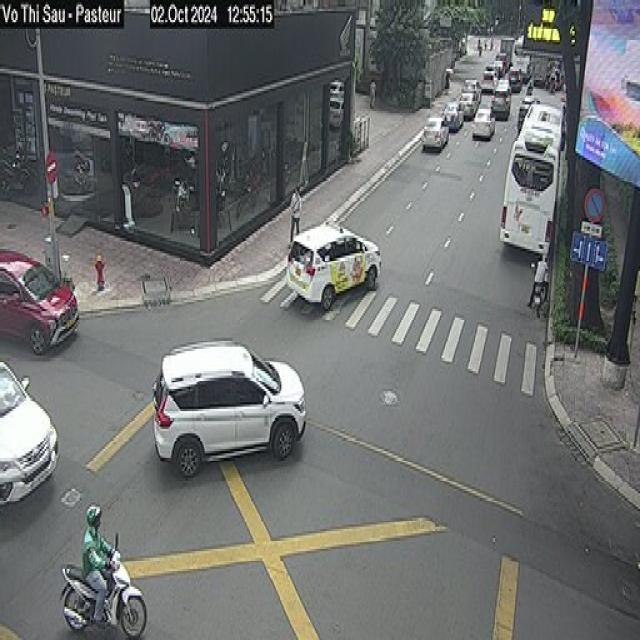bus: (498, 102, 564, 258)
car: (152, 338, 306, 478), (0, 358, 60, 504), (286, 220, 382, 309), (0, 249, 79, 355), (421, 116, 449, 151), (456, 80, 480, 113), (471, 106, 495, 138), (448, 92, 466, 134)
motorcycle: (59, 531, 148, 638), (530, 278, 550, 321)
person: (81, 504, 120, 622), (534, 248, 548, 300), (289, 184, 301, 244)
